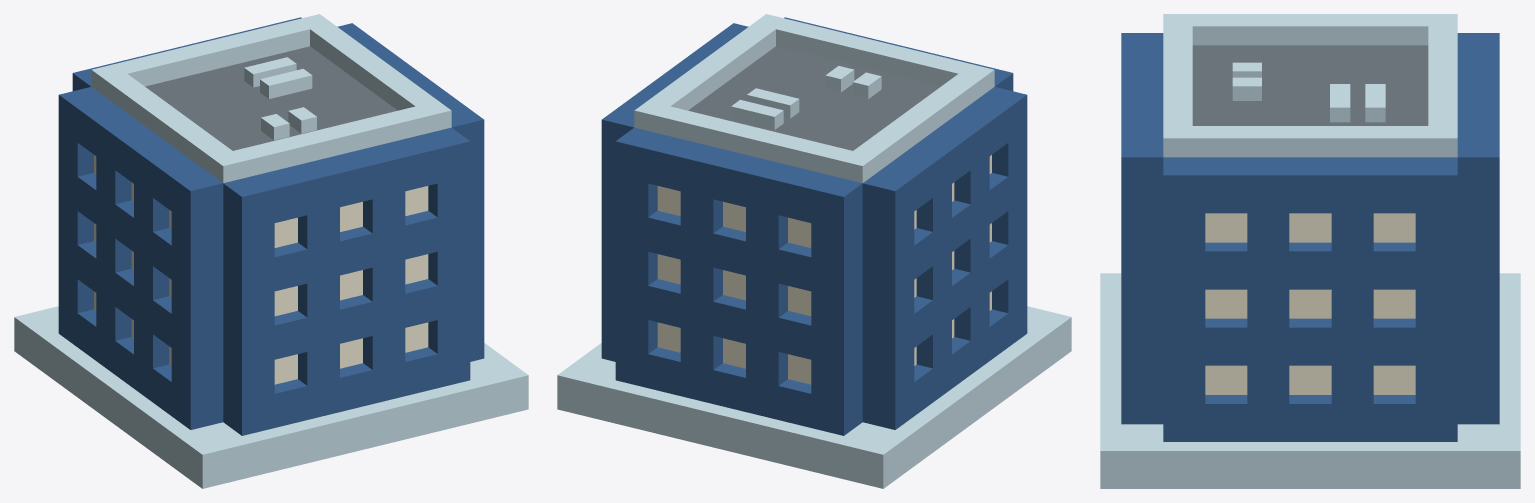
File: Building_1_Base_Extra (Blue).obj
The picture shows the model from 3 angles, left to right: view 1: azimuth 30°, elevation 25°; view 2: azimuth 150°, elevation 25°; view 3: azimuth 270°, elevation 25°; orthographic projection. The views are drawn at different scales.
Parts seen in each view (by area): view 1: Building_1_Base_Extra_(Blue); view 2: Building_1_Base_Extra_(Blue); view 3: Building_1_Base_Extra_(Blue).
Boxes of the visible parts, left/top/right/bottom form: Building_1_Base_Extra_(Blue): left=14, top=14, right=528, bottom=488; Building_1_Base_Extra_(Blue): left=557, top=14, right=1071, bottom=488; Building_1_Base_Extra_(Blue): left=1100, top=14, right=1520, bottom=488.
Bounding box in the file's own units: 2 × 1.7 × 2.
